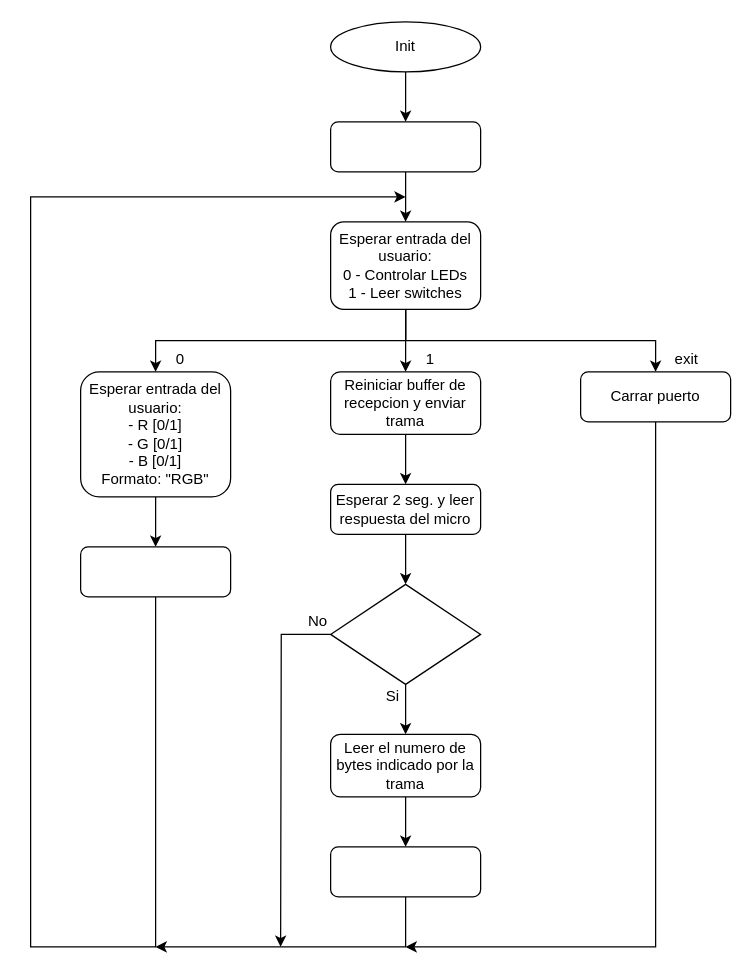
The diagram is 753 pixels wide and 979 high, and some of its shapes have lost their labels. The box of each missing label's shape, as (x1, y1, x2, y2) in pixels:
Abrir puerto serial: (329, 121, 481, 172)
Codificar y enviar trama por el puerto: (79, 546, 231, 597)
Convertir a entero e imprimir en pantalla: (329, 846, 481, 897)
La cabecera y dispositivo coinciden: (329, 583, 481, 684)
